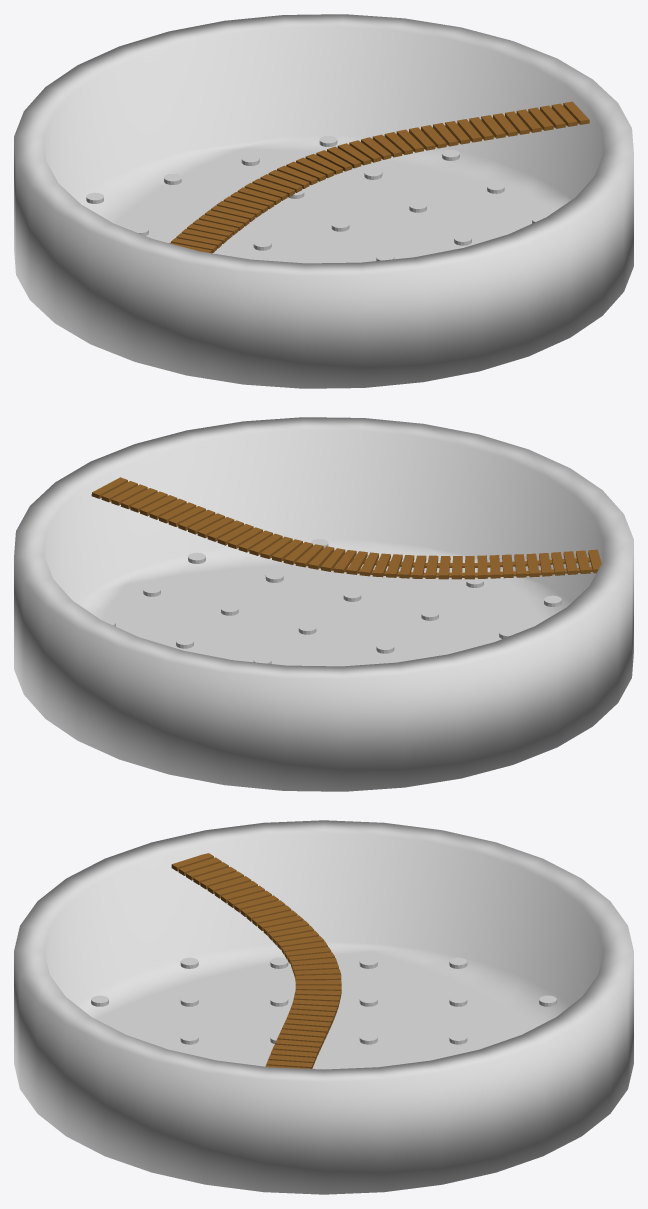
The model's file is bowl.glb.
3 views of the same model, one above another, from view 1: azimuth 30°, elevation 25°; view 2: azimuth 150°, elevation 25°; view 3: azimuth 270°, elevation 25° (orthographic).
Parts seen in each view (by area): view 1: Circle.001, Cube, Cylinder; view 2: Circle.001, Cube, Cylinder; view 3: Circle.001, Cube, Cylinder.
Boxes of the visible parts, box(x1,y1,x2,y2) form: Circle.001: box(14, 14, 633, 388); Cube: box(169, 101, 589, 253); Cylinder: box(86, 136, 546, 260); Circle.001: box(14, 417, 633, 791); Cube: box(91, 477, 601, 579); Cylinder: box(101, 539, 561, 663); Circle.001: box(14, 820, 633, 1194); Cube: box(171, 853, 341, 1068); Cylinder: box(91, 957, 556, 1044).
Size of the model in its own units: 6 by 1.2 by 6.
